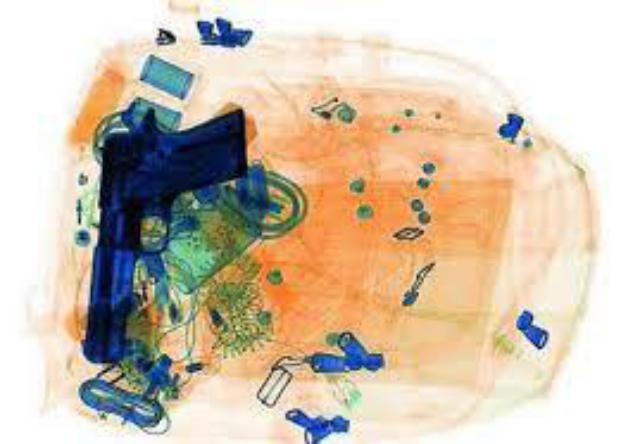Gun: (78, 103, 248, 361)
